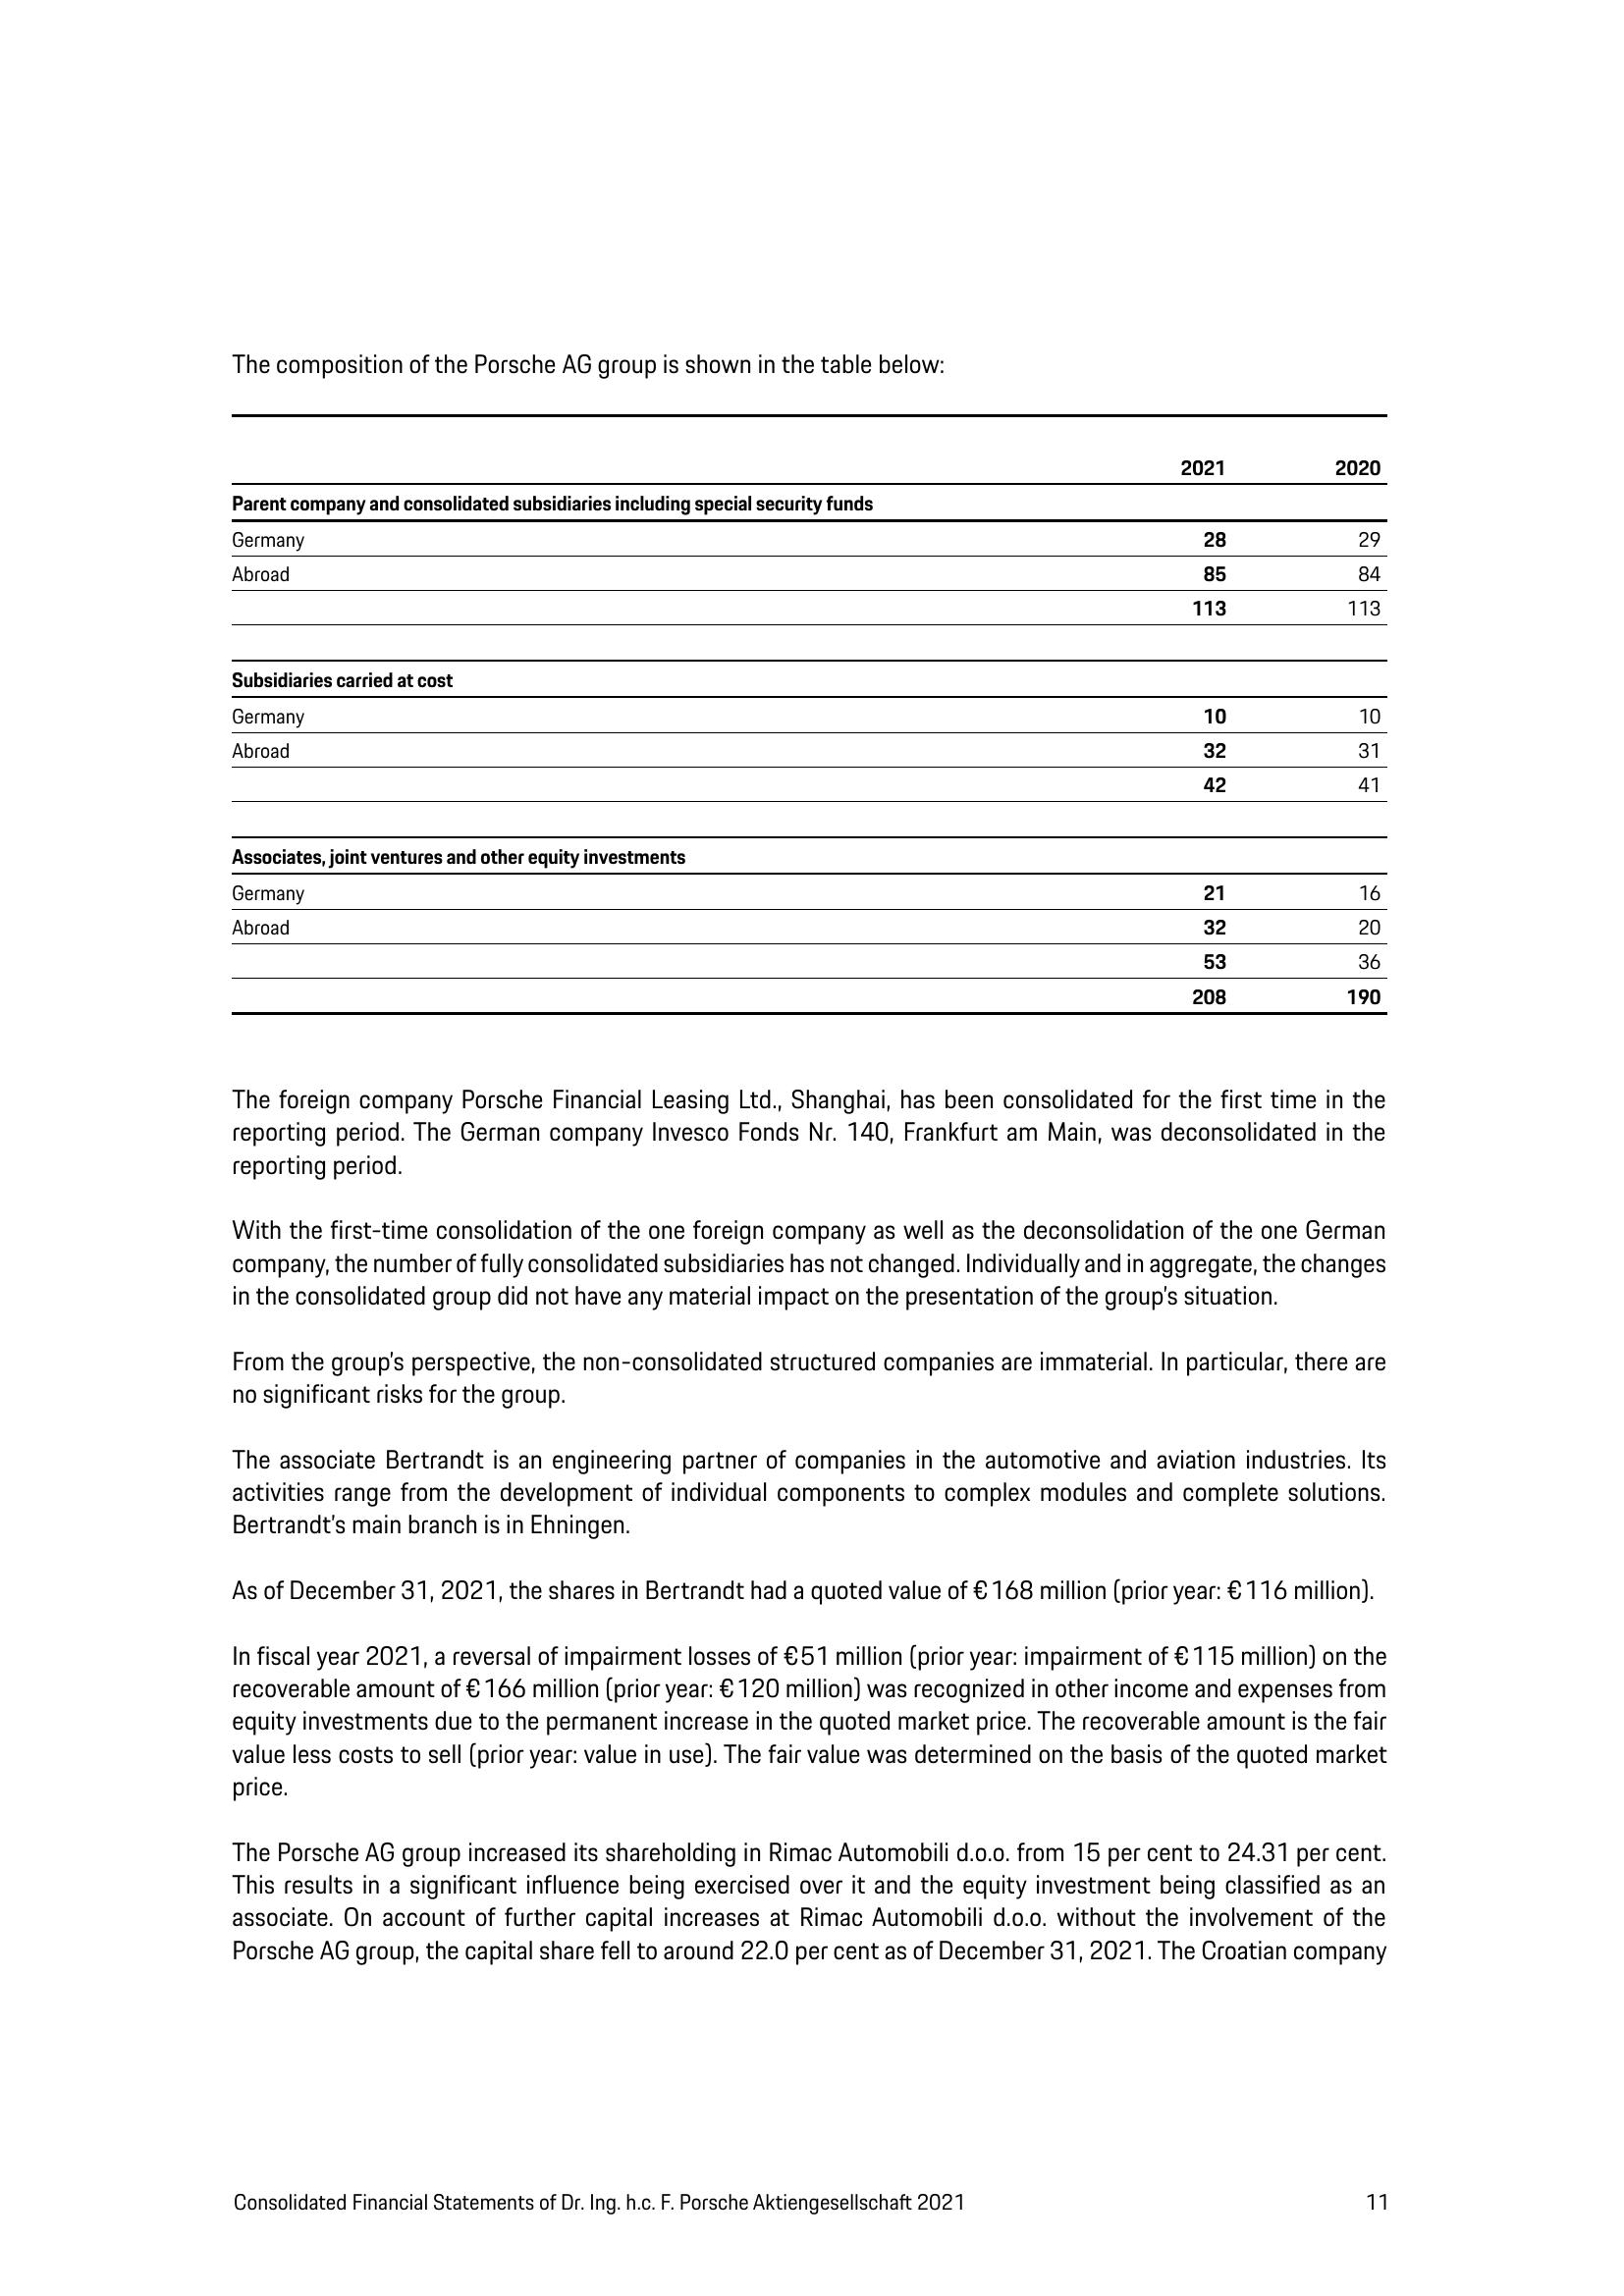Footer: (0, 2140, 1624, 2296)
Header: (0, 0, 1624, 202)
Table: (149, 290, 1425, 1033)
